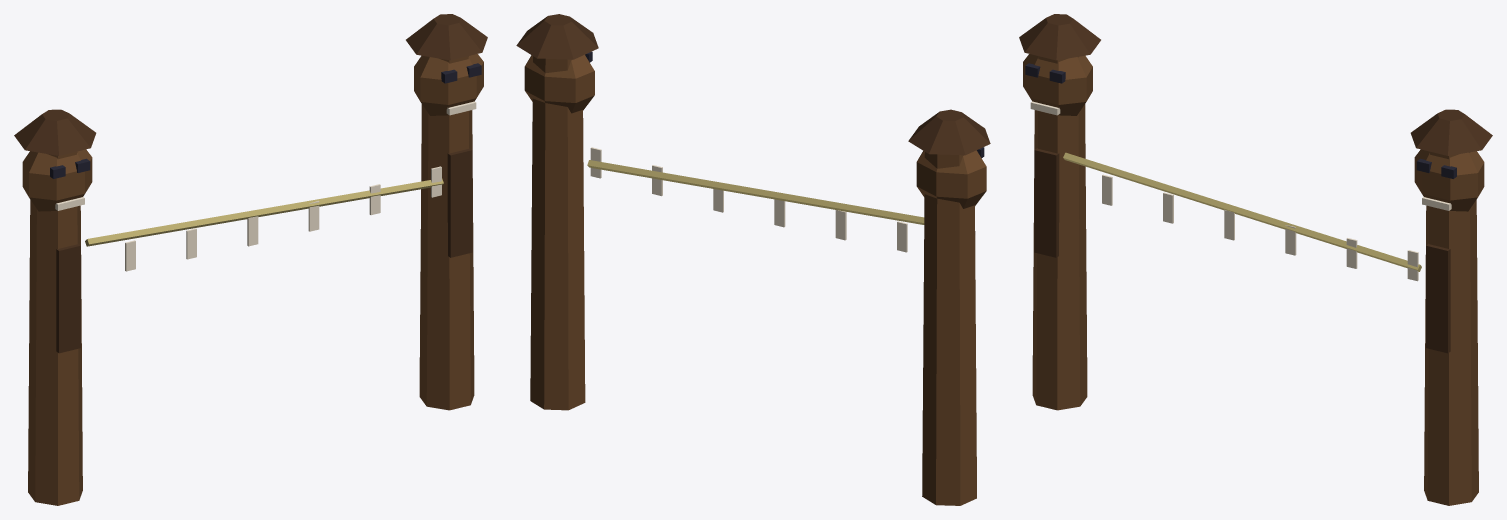
The model's file is sanseong_geumjul_jangseung_pair.glb.
3 views of the same model, side by side, from view 1: azimuth 30°, elevation 25°; view 2: azimuth 150°, elevation 25°; view 3: azimuth 330°, elevation 25° (orthographic).
Visible parts, largest first — view 1: sanseong_geumjul_jangseung_pair; view 2: sanseong_geumjul_jangseung_pair; view 3: sanseong_geumjul_jangseung_pair.
Boxes of the visible parts, x1,y1,x2,y2 form: sanseong_geumjul_jangseung_pair: (14,14,487,505); sanseong_geumjul_jangseung_pair: (516,14,990,505); sanseong_geumjul_jangseung_pair: (1019,14,1492,505).
Size of the model in its own units: 3.78 by 2.96 by 0.5703.
